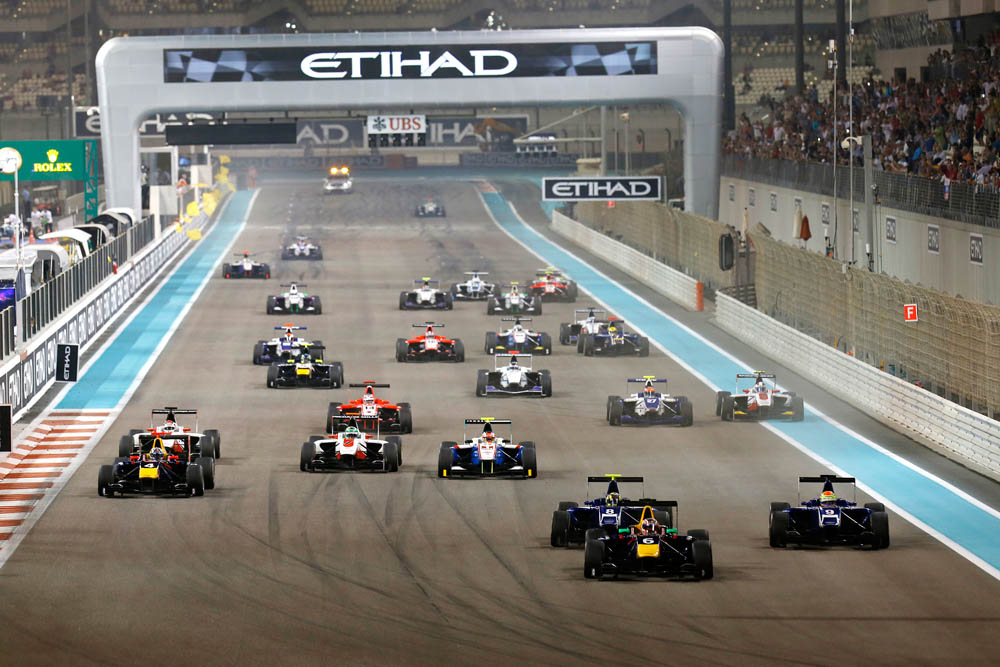race car: (583, 500, 714, 583), (767, 471, 892, 554), (549, 473, 676, 549), (94, 433, 217, 503), (434, 416, 539, 481), (300, 414, 405, 476), (114, 405, 222, 464), (323, 380, 413, 436), (606, 374, 693, 429), (713, 370, 803, 423), (473, 350, 554, 401), (265, 343, 344, 391), (250, 323, 325, 367), (577, 317, 652, 360), (481, 314, 554, 358), (394, 321, 466, 365), (557, 306, 623, 348), (517, 269, 577, 309), (482, 278, 544, 314), (397, 275, 455, 312), (263, 281, 323, 316), (448, 270, 500, 303), (219, 251, 272, 282), (279, 235, 324, 263), (412, 197, 445, 221)
